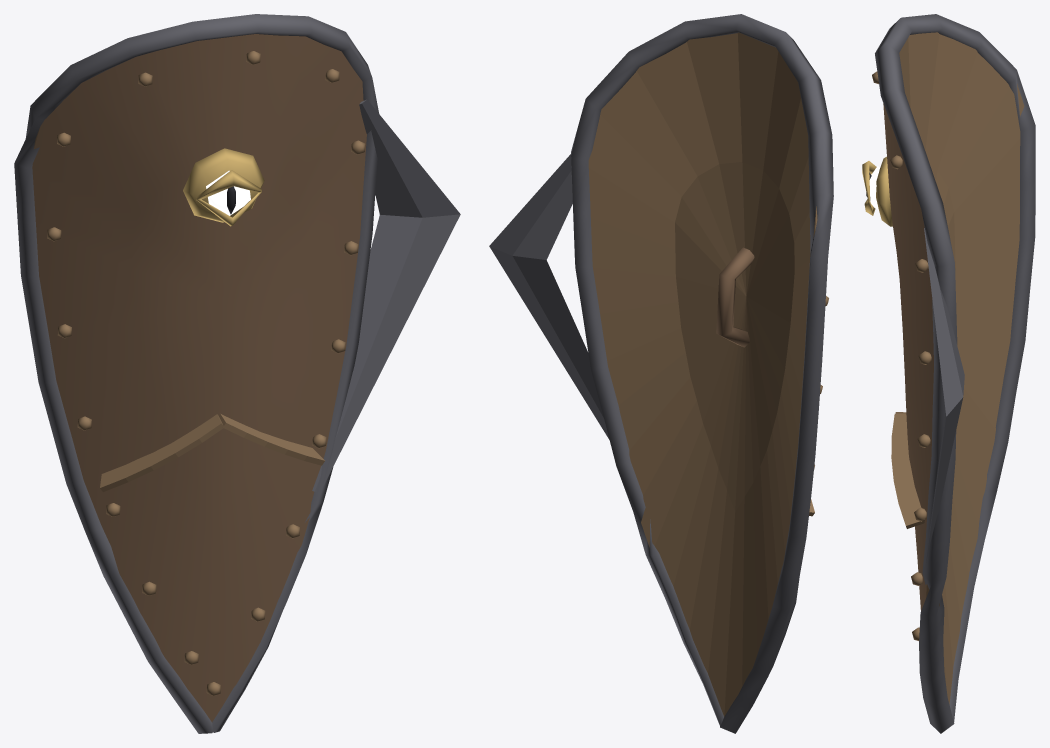
Rendered from shield-road.glb.
3 views of the same model, side by side, from view 1: azimuth 30°, elevation 25°; view 2: azimuth 150°, elevation 25°; view 3: azimuth 270°, elevation 25° (orthographic). The views are drawn at different scales.
Parts seen in each view (by area): view 1: shield-road; view 2: shield-road; view 3: shield-road.
Part boxes in pixels (x1,y1,x2,y2): shield-road: (14,14,460,733); shield-road: (489,14,833,733); shield-road: (862,14,1035,733).
Size of the model in its own units: 1.05 by 1.83 by 0.4157.
